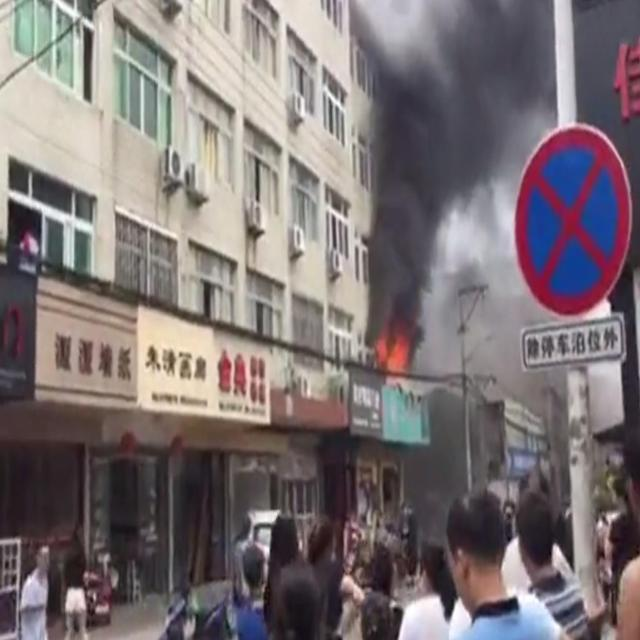Fire: (374, 327, 410, 372)
Smoke: (363, 0, 564, 542)
